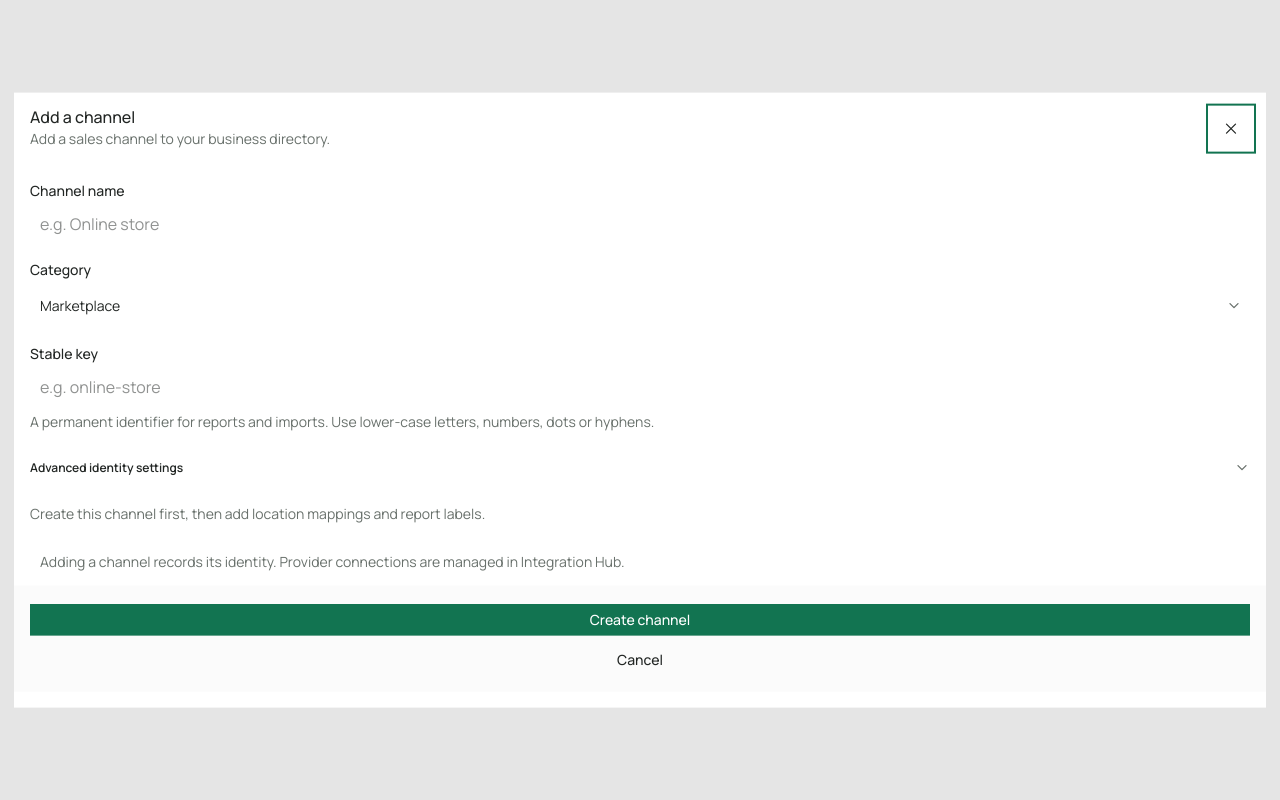
Scenario: create mode (D04) › keeps the provider hint collapsible with its boundary description
expect the field labelled "Optional provider hint" is not shown: met
Click the button "Advanced identity settings" at (107,467), box [30,451,1250,483]
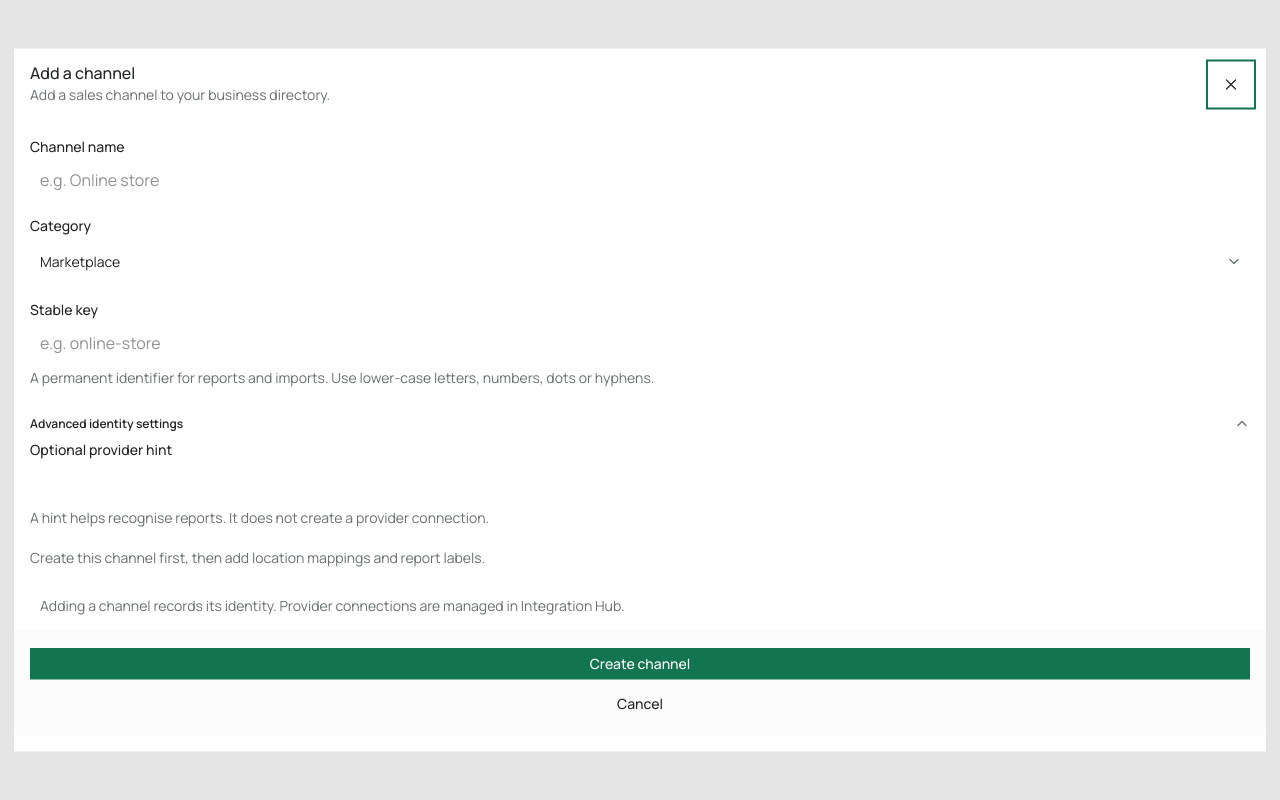
expect the text "A hint helps recognise reports. It does not create a provider connection." is shown: met, box [30,508,489,526]
